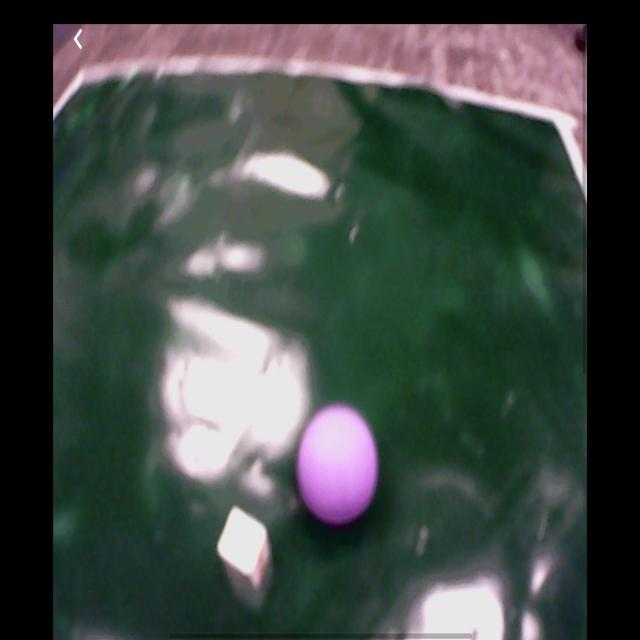ball: (298, 404, 381, 525)
